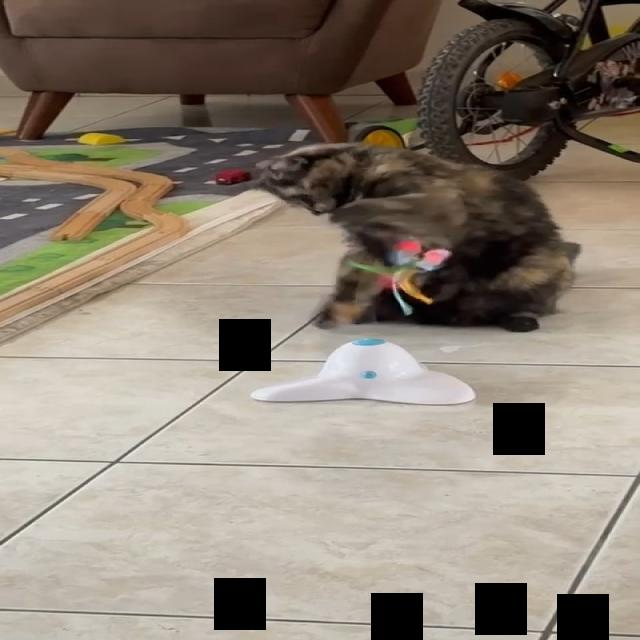authorized: (252, 140, 580, 332)
